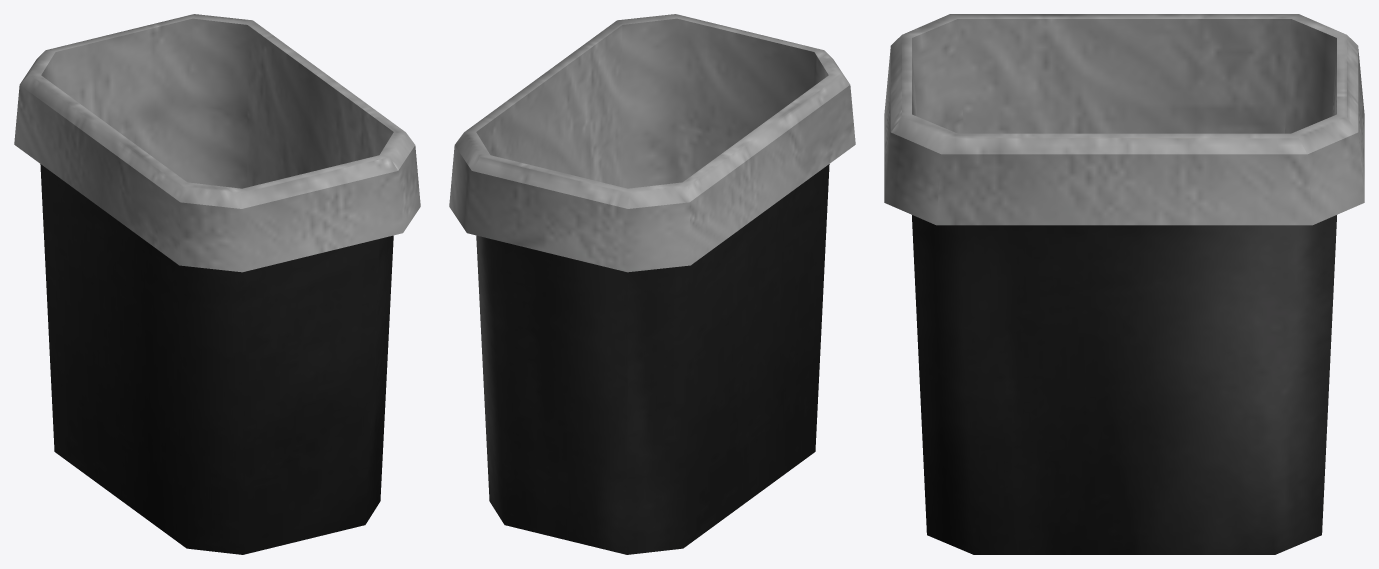
File: Trash_can-col.glb
The picture shows the model from 3 angles, left to right: view 1: azimuth 30°, elevation 25°; view 2: azimuth 150°, elevation 25°; view 3: azimuth 270°, elevation 25°; orthographic projection. The views are drawn at different scales.
Parts seen in each view (by area): view 1: Trash_can-col; view 2: Trash_can-col; view 3: Trash_can-col.
Part boxes in pixels (left/top/right/bottom): Trash_can-col: left=14, top=14, right=420, bottom=554; Trash_can-col: left=449, top=14, right=855, bottom=554; Trash_can-col: left=884, top=14, right=1364, bottom=554.
Bounding box in the file's own units: 0.9524 × 1.41 × 1.44.
1 material, 1 textured.
